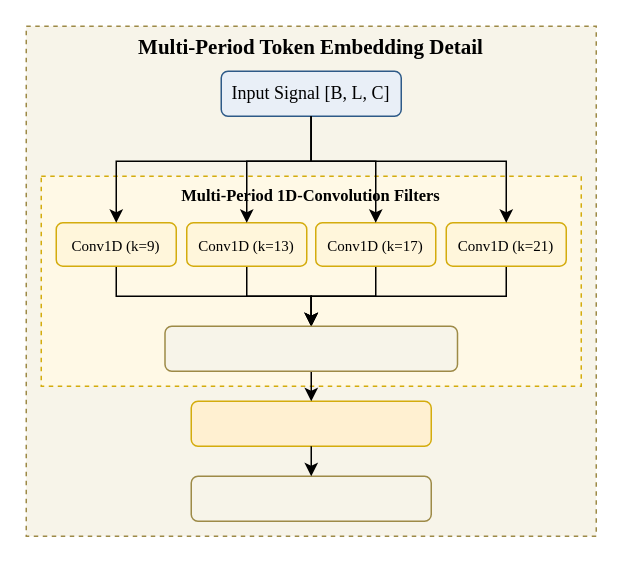
Image size: 623x563. Some labels were removed from this diagram. The centre of each missing label's shape, as x and y in pixels:
Channel Concatenation: (x=310, y=423)
Embedding Vector 4×[B, L, 4]: (x=311, y=348)
Embedding Vector [B, L, 16]: (x=310, y=498)
